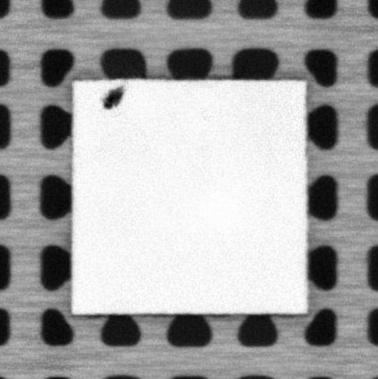DIE_INK: (99, 82, 127, 111)
